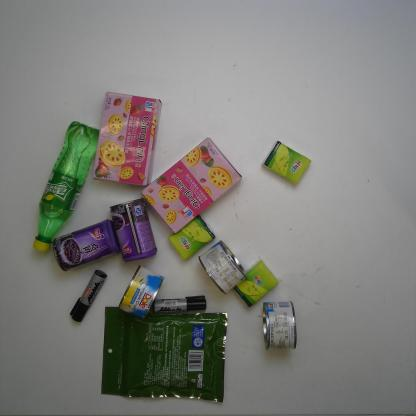Canned Food: (52, 218, 119, 272), (109, 198, 157, 263), (116, 266, 165, 321), (199, 240, 245, 294), (260, 300, 296, 351)
Dessert: (140, 137, 242, 235), (92, 91, 162, 188)
Dried Fruit: (100, 306, 228, 404)
Drink: (30, 120, 100, 253)
Stationery: (70, 269, 108, 322), (151, 295, 208, 315)
Tissue: (262, 139, 312, 186), (168, 215, 215, 262), (232, 260, 280, 306)
